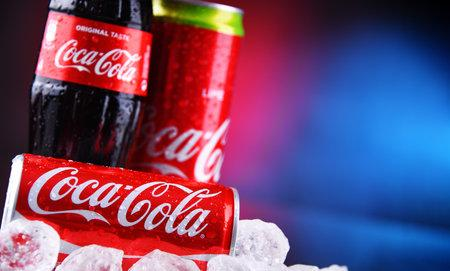lata: (0, 151, 242, 271)
